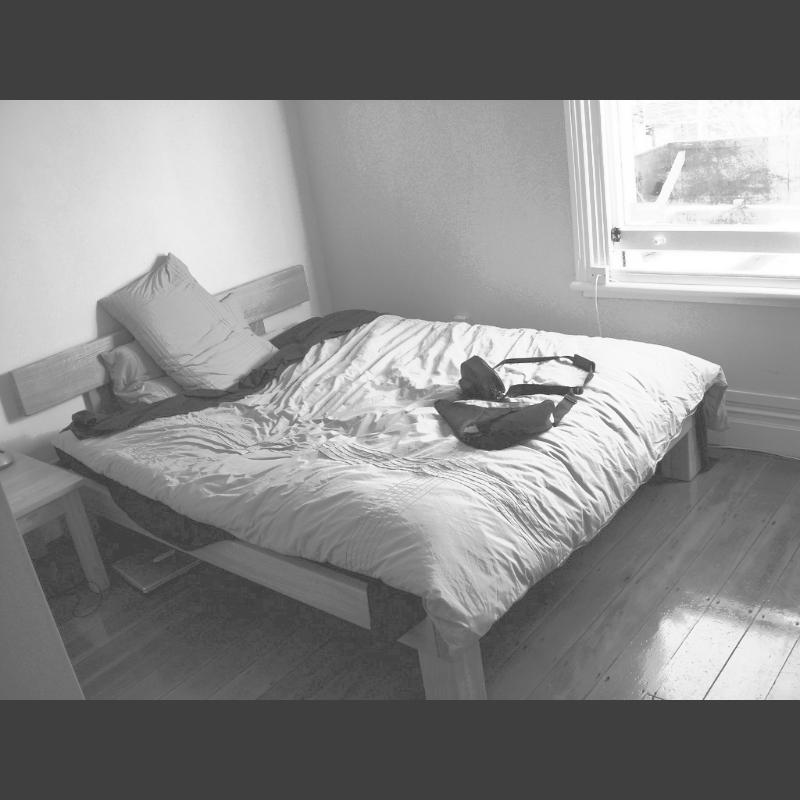pillow: (90, 258, 274, 400)
